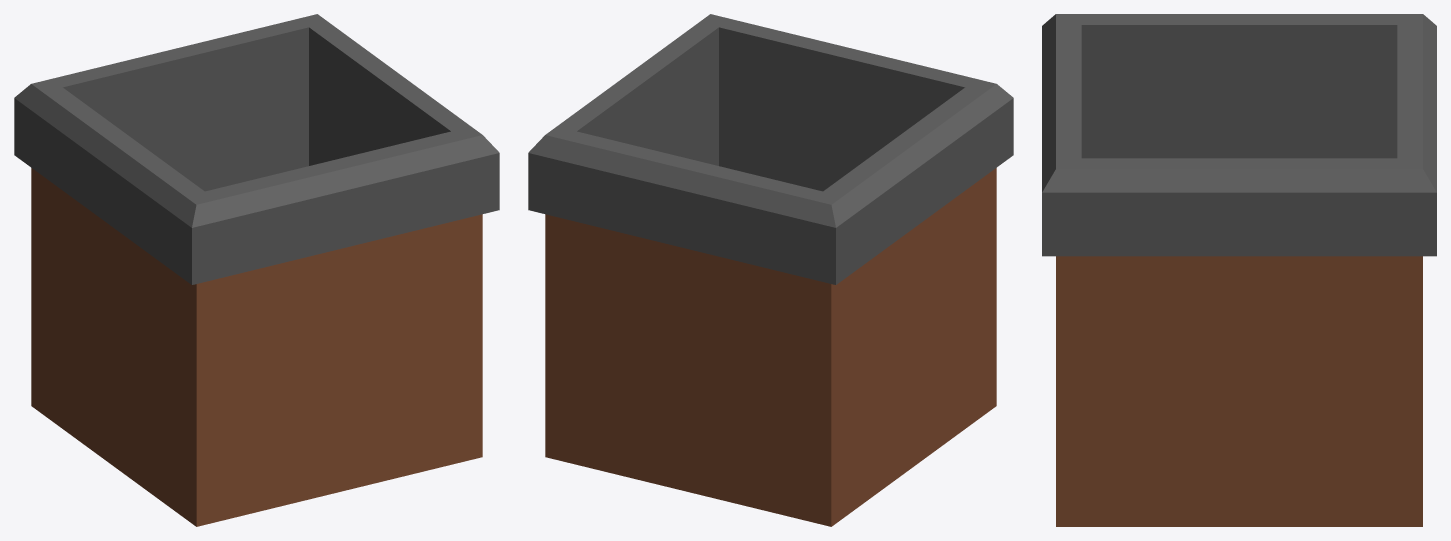
The model's file is Bin.FBX.
The picture shows the model from 3 angles, left to right: view 1: azimuth 30°, elevation 25°; view 2: azimuth 150°, elevation 25°; view 3: azimuth 270°, elevation 25°; orthographic projection. The views are drawn at different scales.
Visible parts, largest first — view 1: Bin; view 2: Bin; view 3: Bin.
Part boxes in pixels (x1,y1,x2,y2): Bin: (14,14,499,526); Bin: (528,14,1013,526); Bin: (1042,14,1436,526).
Bounding box in the file's own units: 39.37 × 39.37 × 39.37.
